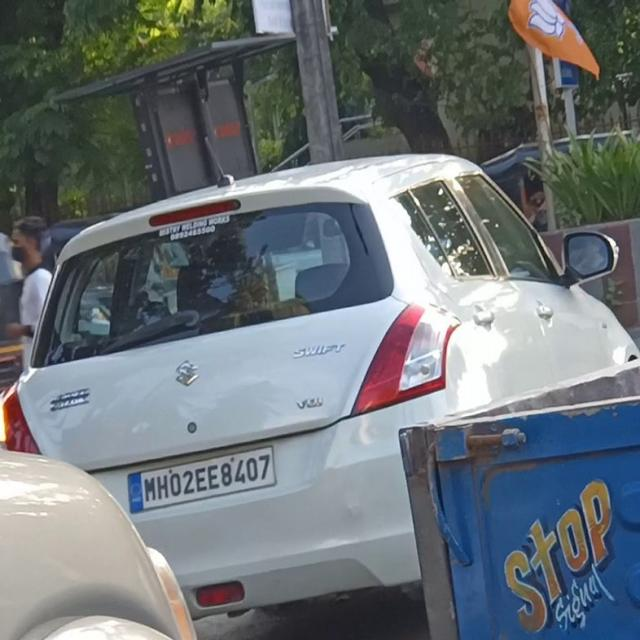Plate: (128, 445, 277, 514)
